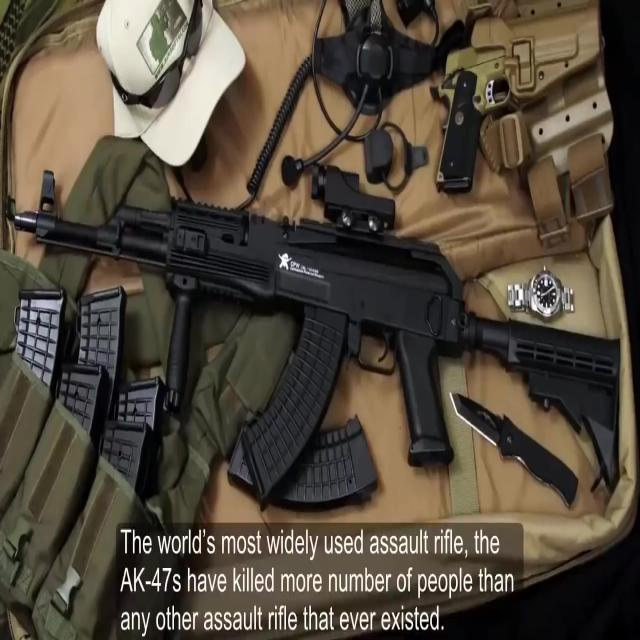Weapon: (0, 156, 640, 483), (8, 271, 180, 513), (439, 23, 617, 227), (222, 402, 390, 544), (446, 379, 576, 526)
